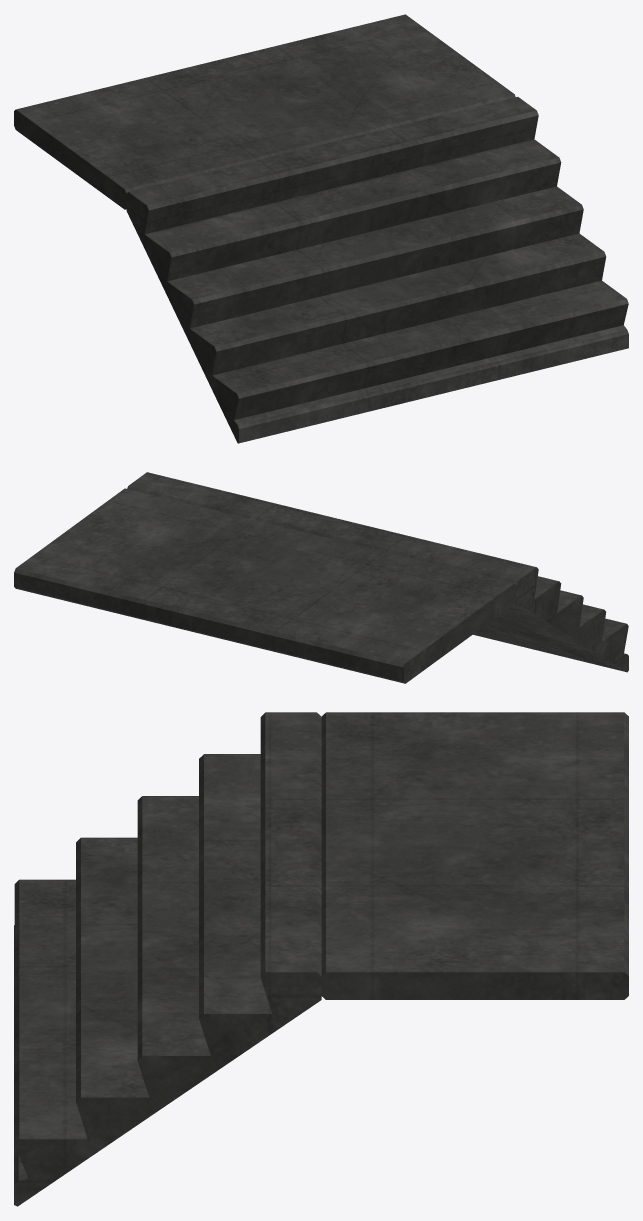
File: stairs_4.fbx
3 views of the same model, one above another, from view 1: azimuth 30°, elevation 25°; view 2: azimuth 150°, elevation 25°; view 3: azimuth 270°, elevation 25° (orthographic). The views are drawn at different scales.
Parts seen in each view (by area): view 1: stairs_4; view 2: stairs_4; view 3: stairs_4.
Boxes of the visible parts, box(x1,y1,x2,y2) form: stairs_4: box(14, 14, 628, 443); stairs_4: box(14, 472, 628, 683); stairs_4: box(14, 712, 628, 1206).
Bounding box in the file's own units: 4 × 4 × 1.68.
